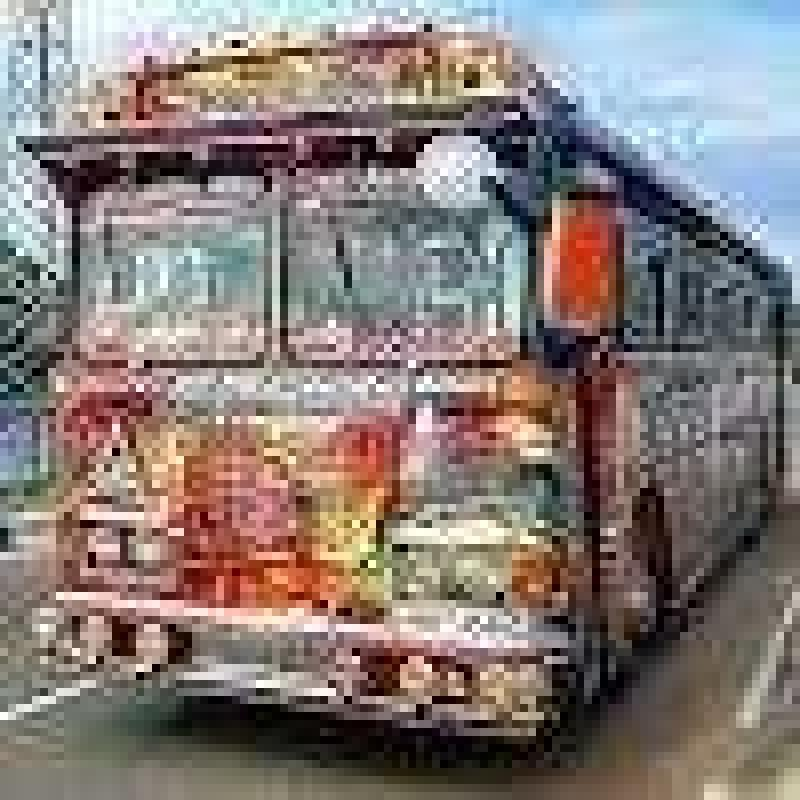bus: (42, 47, 781, 766)
